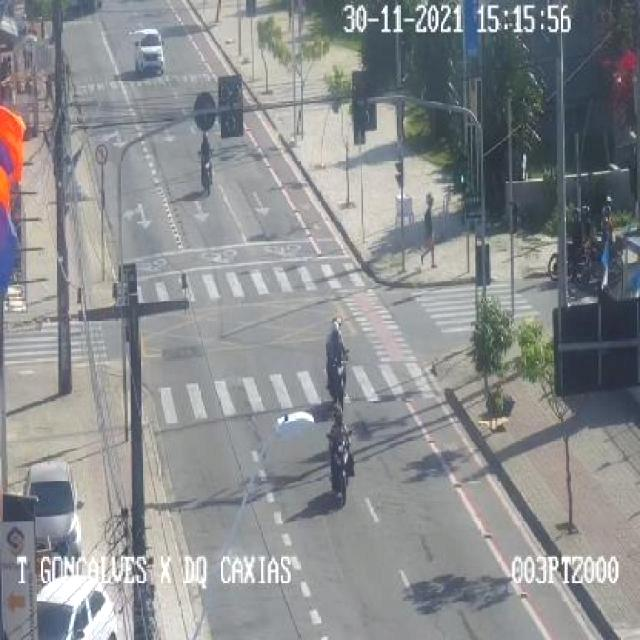Car: (23, 461, 82, 561), (36, 573, 120, 640), (132, 29, 165, 74)
Cycle: (567, 235, 633, 294), (324, 431, 354, 507), (325, 349, 352, 412), (197, 150, 216, 197)
